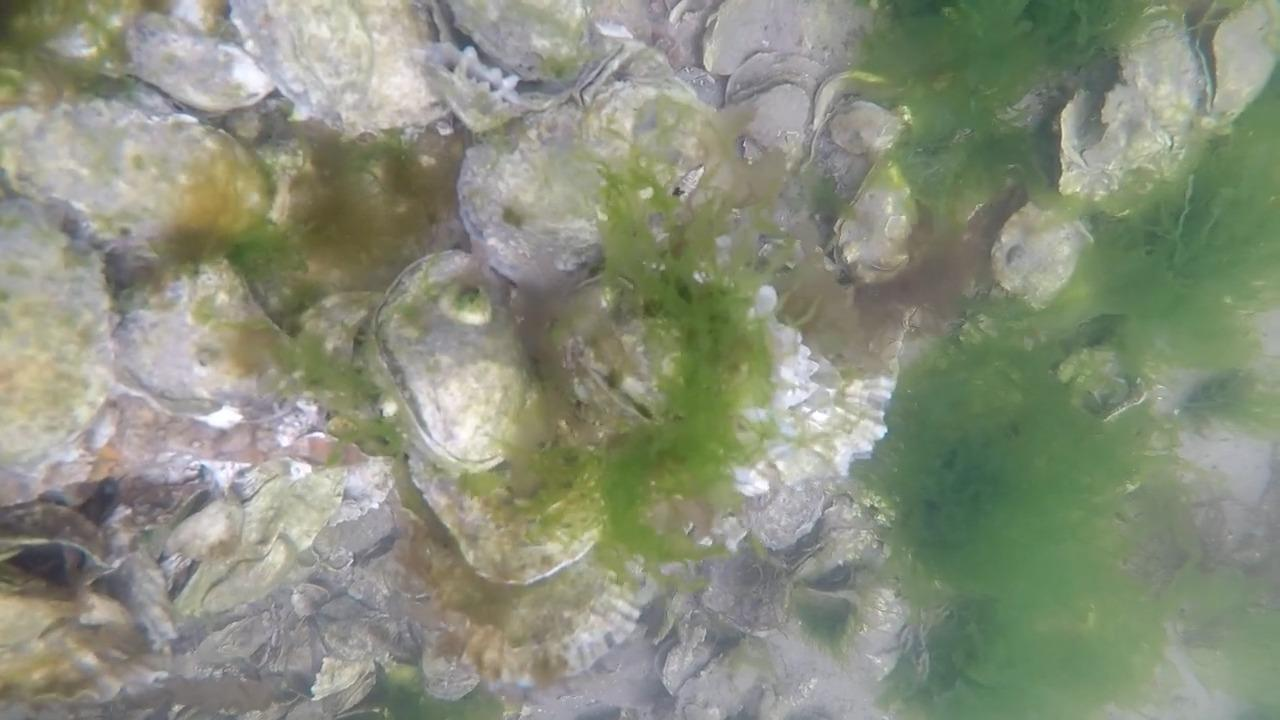Oyster: (4, 97, 269, 251), (379, 250, 533, 466), (108, 259, 294, 424), (0, 211, 111, 471), (409, 450, 612, 592), (545, 271, 685, 435), (457, 135, 602, 292), (578, 77, 718, 189), (125, 12, 276, 114), (436, 1, 605, 84), (1060, 75, 1169, 201), (779, 483, 895, 595), (690, 542, 818, 642), (988, 200, 1094, 308), (419, 49, 534, 137), (0, 190, 99, 285), (293, 286, 388, 384), (830, 183, 922, 284), (1203, 3, 1280, 122), (772, 1, 881, 78), (730, 81, 816, 165), (745, 477, 830, 558)
